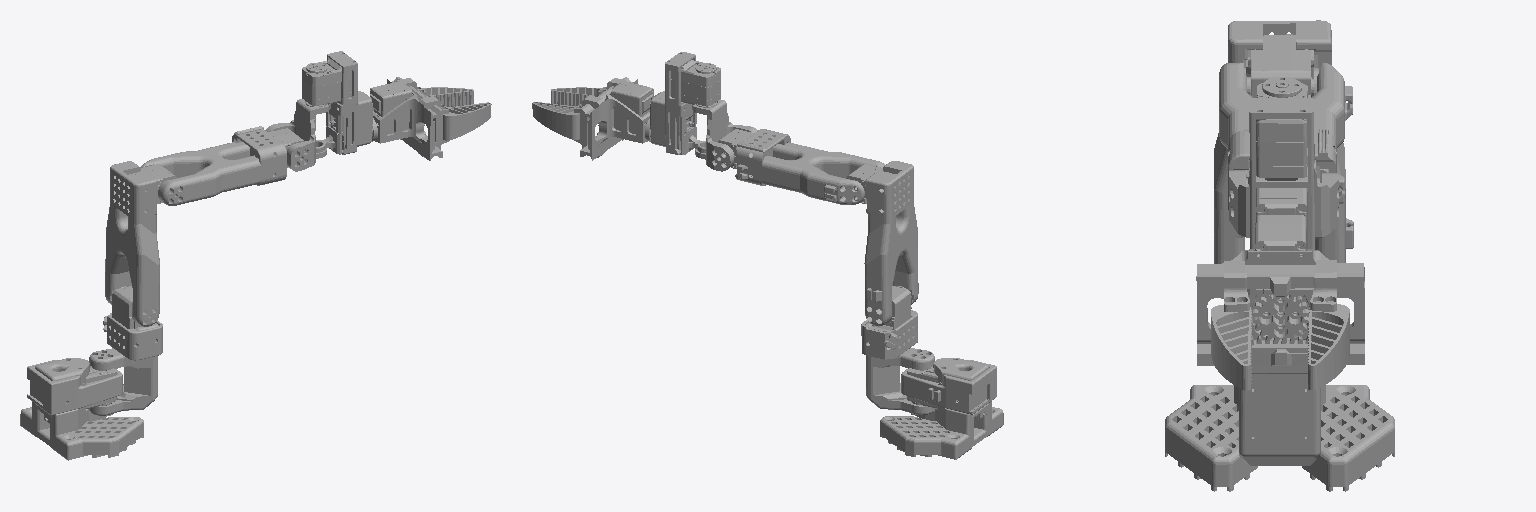
robot.urdf — so101_PathonAI_6dof_symmetric_gripper:
<?xml version="1.0" ?>
<!-- =================================================================================== -->
<!-- |    This document was autogenerated by xacro from /home/pathonai/urdf_ws/src/so101_PathonAI_6dof_symmetric_gripper_description/urdf/so101_PathonAI_6dof_symmetric_gripper.xacro | -->
<!-- |    EDITING THIS FILE BY HAND IS NOT RECOMMENDED                                 | -->
<!-- =================================================================================== -->
<robot name="so101_PathonAI_6dof_symmetric_gripper">
  <material name="silver">
    <color rgba="0.700 0.700 0.700 1.000"/>
  </material>
  <transmission name="Revolute_1_tran">
    <type>transmission_interface/SimpleTransmission</type>
    <joint name="Revolute_1">
      <hardwareInterface>hardware_interface/EffortJointInterface</hardwareInterface>
    </joint>
    <actuator name="Revolute_1_actr">
      <hardwareInterface>hardware_interface/EffortJointInterface</hardwareInterface>
      <mechanicalReduction>1</mechanicalReduction>
    </actuator>
  </transmission>
  <transmission name="Revolute_2_tran">
    <type>transmission_interface/SimpleTransmission</type>
    <joint name="Revolute_2">
      <hardwareInterface>hardware_interface/EffortJointInterface</hardwareInterface>
    </joint>
    <actuator name="Revolute_2_actr">
      <hardwareInterface>hardware_interface/EffortJointInterface</hardwareInterface>
      <mechanicalReduction>1</mechanicalReduction>
    </actuator>
  </transmission>
  <transmission name="Revolute_3_tran">
    <type>transmission_interface/SimpleTransmission</type>
    <joint name="Revolute_3">
      <hardwareInterface>hardware_interface/EffortJointInterface</hardwareInterface>
    </joint>
    <actuator name="Revolute_3_actr">
      <hardwareInterface>hardware_interface/EffortJointInterface</hardwareInterface>
      <mechanicalReduction>1</mechanicalReduction>
    </actuator>
  </transmission>
  <transmission name="Revolute_4_tran">
    <type>transmission_interface/SimpleTransmission</type>
    <joint name="Revolute_4">
      <hardwareInterface>hardware_interface/EffortJointInterface</hardwareInterface>
    </joint>
    <actuator name="Revolute_4_actr">
      <hardwareInterface>hardware_interface/EffortJointInterface</hardwareInterface>
      <mechanicalReduction>1</mechanicalReduction>
    </actuator>
  </transmission>
  <transmission name="Revolute_5_tran">
    <type>transmission_interface/SimpleTransmission</type>
    <joint name="Revolute_5">
      <hardwareInterface>hardware_interface/EffortJointInterface</hardwareInterface>
    </joint>
    <actuator name="Revolute_5_actr">
      <hardwareInterface>hardware_interface/EffortJointInterface</hardwareInterface>
      <mechanicalReduction>1</mechanicalReduction>
    </actuator>
  </transmission>
  <transmission name="Revolute_6_tran">
    <type>transmission_interface/SimpleTransmission</type>
    <joint name="Revolute_6">
      <hardwareInterface>hardware_interface/EffortJointInterface</hardwareInterface>
    </joint>
    <actuator name="Revolute_6_actr">
      <hardwareInterface>hardware_interface/EffortJointInterface</hardwareInterface>
      <mechanicalReduction>1</mechanicalReduction>
    </actuator>
  </transmission>
  <transmission name="left_jaw_slider_tran">
    <type>transmission_interface/SimpleTransmission</type>
    <joint name="left_jaw_slider">
      <hardwareInterface>hardware_interface/EffortJointInterface</hardwareInterface>
    </joint>
    <actuator name="left_jaw_slider_actr">
      <hardwareInterface>hardware_interface/EffortJointInterface</hardwareInterface>
      <mechanicalReduction>1</mechanicalReduction>
    </actuator>
  </transmission>
  <transmission name="right_jaw_slider_tran">
    <type>transmission_interface/SimpleTransmission</type>
    <joint name="right_jaw_slider">
      <hardwareInterface>hardware_interface/EffortJointInterface</hardwareInterface>
    </joint>
    <actuator name="right_jaw_slider_actr">
      <hardwareInterface>hardware_interface/EffortJointInterface</hardwareInterface>
      <mechanicalReduction>1</mechanicalReduction>
    </actuator>
  </transmission>
  <gazebo>
    <plugin filename="libgazebo_ros_control.so" name="control"/>
  </gazebo>
  <gazebo reference="base_link">
    <material>Gazebo/Silver</material>
    <mu1>0.2</mu1>
    <mu2>0.2</mu2>
    <self_collide>true</self_collide>
    <gravity>true</gravity>
  </gazebo>
  <gazebo reference="link_yaw_v1_1">
    <material>Gazebo/Silver</material>
    <mu1>0.2</mu1>
    <mu2>0.2</mu2>
    <self_collide>true</self_collide>
  </gazebo>
  <gazebo reference="link_roll_v1_1">
    <material>Gazebo/Silver</material>
    <mu1>0.2</mu1>
    <mu2>0.2</mu2>
    <self_collide>true</self_collide>
  </gazebo>
  <gazebo reference="link_pitch_1">
    <material>Gazebo/Silver</material>
    <mu1>0.2</mu1>
    <mu2>0.2</mu2>
    <self_collide>true</self_collide>
  </gazebo>
  <gazebo reference="lower_arm_link_1">
    <material>Gazebo/Silver</material>
    <mu1>0.2</mu1>
    <mu2>0.2</mu2>
    <self_collide>true</self_collide>
  </gazebo>
  <gazebo reference="shoulder_link_1">
    <material>Gazebo/Silver</material>
    <mu1>0.2</mu1>
    <mu2>0.2</mu2>
    <self_collide>true</self_collide>
  </gazebo>
  <gazebo reference="upper_arm_link_1">
    <material>Gazebo/Silver</material>
    <mu1>0.2</mu1>
    <mu2>0.2</mu2>
    <self_collide>true</self_collide>
  </gazebo>
  <gazebo reference="left_jaw_v1_1">
    <material>Gazebo/Silver</material>
    <mu1>0.2</mu1>
    <mu2>0.2</mu2>
    <self_collide>true</self_collide>
  </gazebo>
  <gazebo reference="right_jaw_v1_1">
    <material>Gazebo/Silver</material>
    <mu1>0.2</mu1>
    <mu2>0.2</mu2>
    <self_collide>true</self_collide>
  </gazebo>
  <link name="base_link">
    <inertial>
      <origin rpy="0 0 0" xyz="-0.002181917231912958 0.0002385029900090826 0.030231283959863367"/>
      <mass value="0.19146543803266067"/>
      <inertia ixx="0.00019" ixy="-1e-06" ixz="1.3e-05" iyy="0.000188" iyz="0.0" izz="0.000196"/>
    </inertial>
    <visual>
      <origin rpy="0 0 0" xyz="0 0 0"/>
      <geometry>
        <mesh filename="meshes/base_link.stl" scale="0.001 0.001 0.001"/>
      </geometry>
      <material name="silver"/>
    </visual>
    <collision>
      <origin rpy="0 0 0" xyz="0 0 0"/>
      <geometry>
        <mesh filename="meshes/base_link.stl" scale="0.001 0.001 0.001"/>
      </geometry>
    </collision>
  </link>
  <link name="wrist_yaw_link">
    <inertial>
      <origin rpy="0 0 0" xyz="0.024499928462552473 -4.2987369628577935e-05 -0.004154699539631657"/>
      <mass value="0.08567679182758908"/>
      <inertia ixx="5.9e-05" ixy="0.0" ixz="1.7e-05" iyy="7.5e-05" iyz="0.0" izz="2.6e-05"/>
    </inertial>
    <visual>
      <origin rpy="0 0 0" xyz="-0.248572 -0.001351 -0.271296"/>
      <geometry>
        <mesh filename="meshes/link_yaw_v1_1.stl" scale="0.001 0.001 0.001"/>
      </geometry>
      <material name="silver"/>
    </visual>
    <collision>
      <origin rpy="0 0 0" xyz="-0.248572 -0.001351 -0.271296"/>
      <geometry>
        <mesh filename="meshes/link_yaw_v1_1.stl" scale="0.001 0.001 0.001"/>
      </geometry>
    </collision>
  </link>
  <link name="wrist_roll_link">
    <inertial>
      <origin rpy="0 0 0" xyz="0.029769169194226286 -0.0003404414774720009 0.007538866703660052"/>
      <mass value="0.06594606839949692"/>
      <inertia ixx="2.9e-05" ixy="-0.0" ixz="3e-06" iyy="2.7e-05" iyz="-0.0" izz="2.7e-05"/>
    </inertial>
    <visual>
      <origin rpy="0 0 0" xyz="-0.304139 -0.001175 -0.234075"/>
      <geometry>
        <mesh filename="meshes/link_roll_v1_1.stl" scale="0.001 0.001 0.001"/>
      </geometry>
      <material name="silver"/>
    </visual>
    <collision>
      <origin rpy="0 0 0" xyz="-0.304139 -0.001175 -0.234075"/>
      <geometry>
        <mesh filename="meshes/link_roll_v1_1.stl" scale="0.001 0.001 0.001"/>
      </geometry>
    </collision>
  </link>
  <link name="wrist_pitch_link">
    <inertial>
      <origin rpy="0 0 0" xyz="0.012444012165968216 0.019700647706552527 0.007055327401834982"/>
      <mass value="0.01772245044549146"/>
      <inertia ixx="8e-06" ixy="-0.0" ixz="-1e-06" iyy="6e-06" iyz="0.0" izz="7e-06"/>
    </inertial>
    <visual>
      <origin rpy="0 0 0" xyz="-0.219276 0.017705 -0.234679"/>
      <geometry>
        <mesh filename="meshes/link_pitch_1.stl" scale="0.001 0.001 0.001"/>
      </geometry>
      <material name="silver"/>
    </visual>
    <collision>
      <origin rpy="0 0 0" xyz="-0.219276 0.017705 -0.234679"/>
      <geometry>
        <mesh filename="meshes/link_pitch_1.stl" scale="0.001 0.001 0.001"/>
      </geometry>
    </collision>
  </link>
  <link name="lower_arm_link">
    <inertial>
      <origin rpy="0 0 0" xyz="0.07682091336987437 0.019449401609962638 0.0007855350559450025"/>
      <mass value="0.14931353567203562"/>
      <inertia ixx="5.3e-05" ixy="-2e-06" ixz="-7e-06" iyy="0.000234" iyz="0.0" izz="0.000268"/>
    </inertial>
    <visual>
      <origin rpy="0 0 0" xyz="-0.085177 0.018353 -0.23085"/>
      <geometry>
        <mesh filename="meshes/lower_arm_link_1.stl" scale="0.001 0.001 0.001"/>
      </geometry>
      <material name="silver"/>
    </visual>
    <collision>
      <origin rpy="0 0 0" xyz="-0.085177 0.018353 -0.23085"/>
      <geometry>
        <mesh filename="meshes/lower_arm_link_1.stl" scale="0.001 0.001 0.001"/>
      </geometry>
    </collision>
  </link>
  <link name="shoulder_link">
    <inertial>
      <origin rpy="0 0 0" xyz="0.031250252793449916 -0.0002581461462100498 0.008420217667021515"/>
      <mass value="0.12340393098325005"/>
      <inertia ixx="0.000124" ixy="-0.0" ixz="-5e-06" iyy="0.000125" iyz="1e-06" izz="3.4e-05"/>
    </inertial>
    <visual>
      <origin rpy="0 0 0" xyz="-0.025192 -0.000209 -0.066415"/>
      <geometry>
        <mesh filename="meshes/shoulder_link_1.stl" scale="0.001 0.001 0.001"/>
      </geometry>
      <material name="silver"/>
    </visual>
    <collision>
      <origin rpy="0 0 0" xyz="-0.025192 -0.000209 -0.066415"/>
      <geometry>
        <mesh filename="meshes/shoulder_link_1.stl" scale="0.001 0.001 0.001"/>
      </geometry>
    </collision>
  </link>
  <link name="upper_arm_link">
    <inertial>
      <origin rpy="0 0 0" xyz="0.0036368866597614596 0.019750801968105986 0.07224195667057687"/>
      <mass value="0.16051385984690403"/>
      <inertia ixx="0.000276" ixy="0.0" ixz="-2.3e-05" iyy="0.000244" iyz="1e-06" izz="7.1e-05"/>
    </inertial>
    <visual>
      <origin rpy="0 0 0" xyz="-0.0565 0.01955 -0.118391"/>
      <geometry>
        <mesh filename="meshes/upper_arm_link_1.stl" scale="0.001 0.001 0.001"/>
      </geometry>
      <material name="silver"/>
    </visual>
    <collision>
      <origin rpy="0 0 0" xyz="-0.0565 0.01955 -0.118391"/>
      <geometry>
        <mesh filename="meshes/upper_arm_link_1.stl" scale="0.001 0.001 0.001"/>
      </geometry>
    </collision>
  </link>
  <link name="left_jaw">
    <inertial>
      <origin rpy="0 0 0" xyz="0.023806479253455026 -0.0016996718789872856 -0.019446683209120547"/>
      <mass value="0.016624081834698816"/>
      <inertia ixx="4e-06" ixy="-0.0" ixz="1e-06" iyy="8e-06" iyz="0.0" izz="6e-06"/>
    </inertial>
    <visual>
      <origin rpy="0 0 0" xyz="-0.347749 -0.040991 -0.254594"/>
      <geometry>
        <mesh filename="meshes/left_jaw_v1_1.stl" scale="0.001 0.001 0.001"/>
      </geometry>
      <material name="silver"/>
    </visual>
    <collision>
      <origin rpy="0 0 0" xyz="-0.347749 -0.040991 -0.254594"/>
      <geometry>
        <mesh filename="meshes/left_jaw_v1_1.stl" scale="0.001 0.001 0.001"/>
      </geometry>
    </collision>
  </link>
  <link name="right_jaw">
    <inertial>
      <origin rpy="0 0 0" xyz="0.023808169064152396 0.0016409164921040156 -0.02262577329786908"/>
      <mass value="0.016623969125743532"/>
      <inertia ixx="4e-06" ixy="0.0" ixz="-0.0" iyy="8e-06" iyz="0.0" izz="6e-06"/>
    </inertial>
    <visual>
      <origin rpy="0 0 0" xyz="-0.34739 -0.000594 -0.254245"/>
      <geometry>
        <mesh filename="meshes/right_jaw_v1_1.stl" scale="0.001 0.001 0.001"/>
      </geometry>
      <material name="silver"/>
    </visual>
    <collision>
      <origin rpy="0 0 0" xyz="-0.34739 -0.000594 -0.254245"/>
      <geometry>
        <mesh filename="meshes/right_jaw_v1_1.stl" scale="0.001 0.001 0.001"/>
      </geometry>
    </collision>
  </link>
  <joint name="Revolute_1" type="revolute">
    <origin rpy="0 0 0" xyz="0.025192 0.000209 0.066415"/>
    <parent link="base_link"/>
    <child link="shoulder_link"/>
    <axis xyz="0.008727 -0.0 0.999962"/>
    <!-- Calibrated 2026-04-08: measured -121.1° to 117.9°, with 3° safety margin -->
    <limit lower="-2.06" upper="2.01" effort="3.35" velocity="2.0"/>
    <dynamics damping="0.6" friction="0.052"/>
  </joint>
  <joint name="Revolute_2" type="revolute">
    <origin rpy="0 0 0" xyz="0.031308 -0.019759 0.051976"/>
    <parent link="shoulder_link"/>
    <child link="upper_arm_link"/>
    <axis xyz="-0.008726 0.999962 7.6e-05"/>
    <limit lower="-1.75" upper="1.75" effort="3.35" velocity="2.0"/>
    <dynamics damping="0.6" friction="0.052"/>
  </joint>
  <joint name="Revolute_3" type="revolute">
    <origin rpy="0 0 0" xyz="0.028677 0.001197 0.112459"/>
    <parent link="upper_arm_link"/>
    <child link="lower_arm_link"/>
    <axis xyz="-0.0 -1.0 0.0"/>
    <limit effort="3.35" lower="-1.52" upper="1.76" velocity="2.0"/>
    <dynamics damping="0.6" friction="0.052"/>
  </joint>
  <joint name="Revolute_4" type="revolute">
    <origin rpy="0 0 0" xyz="0.134099 0.000648 0.003829"/>
    <parent link="lower_arm_link"/>
    <child link="wrist_pitch_link"/>
    <axis xyz="-0.008802 -0.999924 -0.00865"/>
    <limit effort="3.35" lower="-1.69" upper="1.38" velocity="2.0"/>
    <dynamics damping="0.6" friction="0.052"/>
  </joint>
  <joint name="Revolute_5" type="revolute">
    <origin rpy="0 0 0" xyz="0.029296 0.019056 0.036617"/>
    <parent link="wrist_pitch_link"/>
    <child link="wrist_yaw_link"/>
    <axis xyz="0.014193 -5e-05 0.999899"/>
    <limit effort="3.35" lower="-1.40" upper="1.32" velocity="2.0"/>
    <dynamics damping="0.6" friction="0.052"/>
  </joint>
  <joint name="Revolute_6" type="revolute">
    <origin rpy="0 0 0" xyz="0.055567 -0.000176 -0.037221"/>
    <parent link="wrist_yaw_link"/>
    <child link="wrist_roll_link"/>
    <axis xyz="0.999922 -0.008805 -0.008802"/>
    <limit effort="3.35" lower="-3.08" upper="3.09" velocity="2.0"/>
    <dynamics damping="0.6" friction="0.052"/>
  </joint>
  <joint name="left_jaw_slider" type="prismatic">
    <origin rpy="0 0 0" xyz="0.04361 0.021616 0.020519"/>
    <parent link="wrist_roll_link"/>
    <child link="left_jaw"/>
    <axis xyz="0.008881 0.999923 0.008649"/>
    <limit effort="100" lower="-0.013" upper="0.013" velocity="100"/>
  </joint>
  <joint name="right_jaw_slider" type="prismatic">
    <origin rpy="0 0 0" xyz="0.043251 -0.022781 0.02017"/>
    <parent link="wrist_roll_link"/>
    <child link="right_jaw"/>
    <axis xyz="0.008881 0.999923 0.008649"/>
    <limit effort="100" lower="-0.013" upper="0.013" velocity="100"/>
    <mimic joint="left_jaw_slider" multiplier="-1" offset="0"/>
  </joint>
</robot>

--- What the picture shows (computed from the rendered views, not written in the file) ---
The picture shows the robot from 3 angles, left to right: view 1: azimuth 30°, elevation 25°; view 2: azimuth 150°, elevation 25°; view 3: azimuth 270°, elevation 25°; orthographic projection.
Model so101_PathonAI_6dof_symmetric_gripper with 9 links and 8 joints (6 revolute, 2 prismatic), rooted at base_link, posed every joint at zero.
Links seen in each view (by area): view 1: base_link, upper_arm_link, lower_arm_link, shoulder_link, wrist_yaw_link, wrist_roll_link, wrist_pitch_link, right_jaw, left_jaw; view 2: base_link, upper_arm_link, lower_arm_link, shoulder_link, wrist_yaw_link, wrist_roll_link, wrist_pitch_link, left_jaw, right_jaw; view 3: base_link, wrist_roll_link, upper_arm_link, wrist_yaw_link, shoulder_link, lower_arm_link, right_jaw, left_jaw, wrist_pitch_link.
Link boxes in pixels (x1,y1,x2,y2): base_link: (20,358,143,460); upper_arm_link: (105,161,176,326); lower_arm_link: (141,126,304,205); shoulder_link: (89,286,162,415); wrist_yaw_link: (302,51,372,154); wrist_roll_link: (370,77,442,160); wrist_pitch_link: (265,99,330,171); right_jaw: (418,96,491,157); left_jaw: (396,78,473,139); base_link: (880,358,1003,459); upper_arm_link: (846,161,918,326); lower_arm_link: (718,129,884,204); shoulder_link: (861,286,934,414); wrist_yaw_link: (650,52,720,154); wrist_roll_link: (580,77,653,160); wrist_pitch_link: (692,99,757,171); left_jaw: (532,95,604,157); right_jaw: (551,78,627,140); base_link: (1165,385,1394,491); wrist_roll_link: (1196,215,1364,365); upper_arm_link: (1214,20,1353,298); wrist_yaw_link: (1249,77,1314,249); shoulder_link: (1239,323,1320,465); lower_arm_link: (1219,63,1352,209); right_jaw: (1211,261,1307,390); left_jaw: (1247,260,1349,390); wrist_pitch_link: (1229,148,1338,237).
Bounding box of the posed robot: 0.4622 × 0.1109 × 0.3106 m (x, y, z).
Meshes: 9 distinct files referenced, 9 mesh visuals loaded (9 binary STL).
